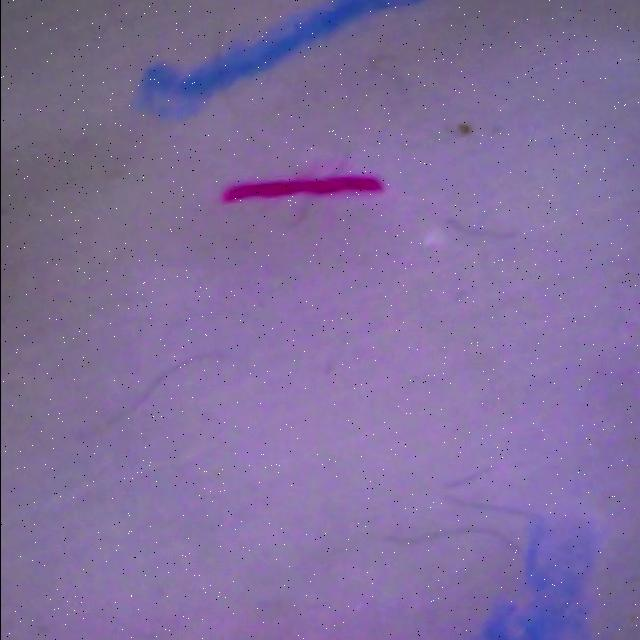Fibre: (68, 346, 238, 444), (210, 158, 400, 226), (426, 466, 550, 534), (370, 526, 532, 578), (405, 216, 523, 274)
